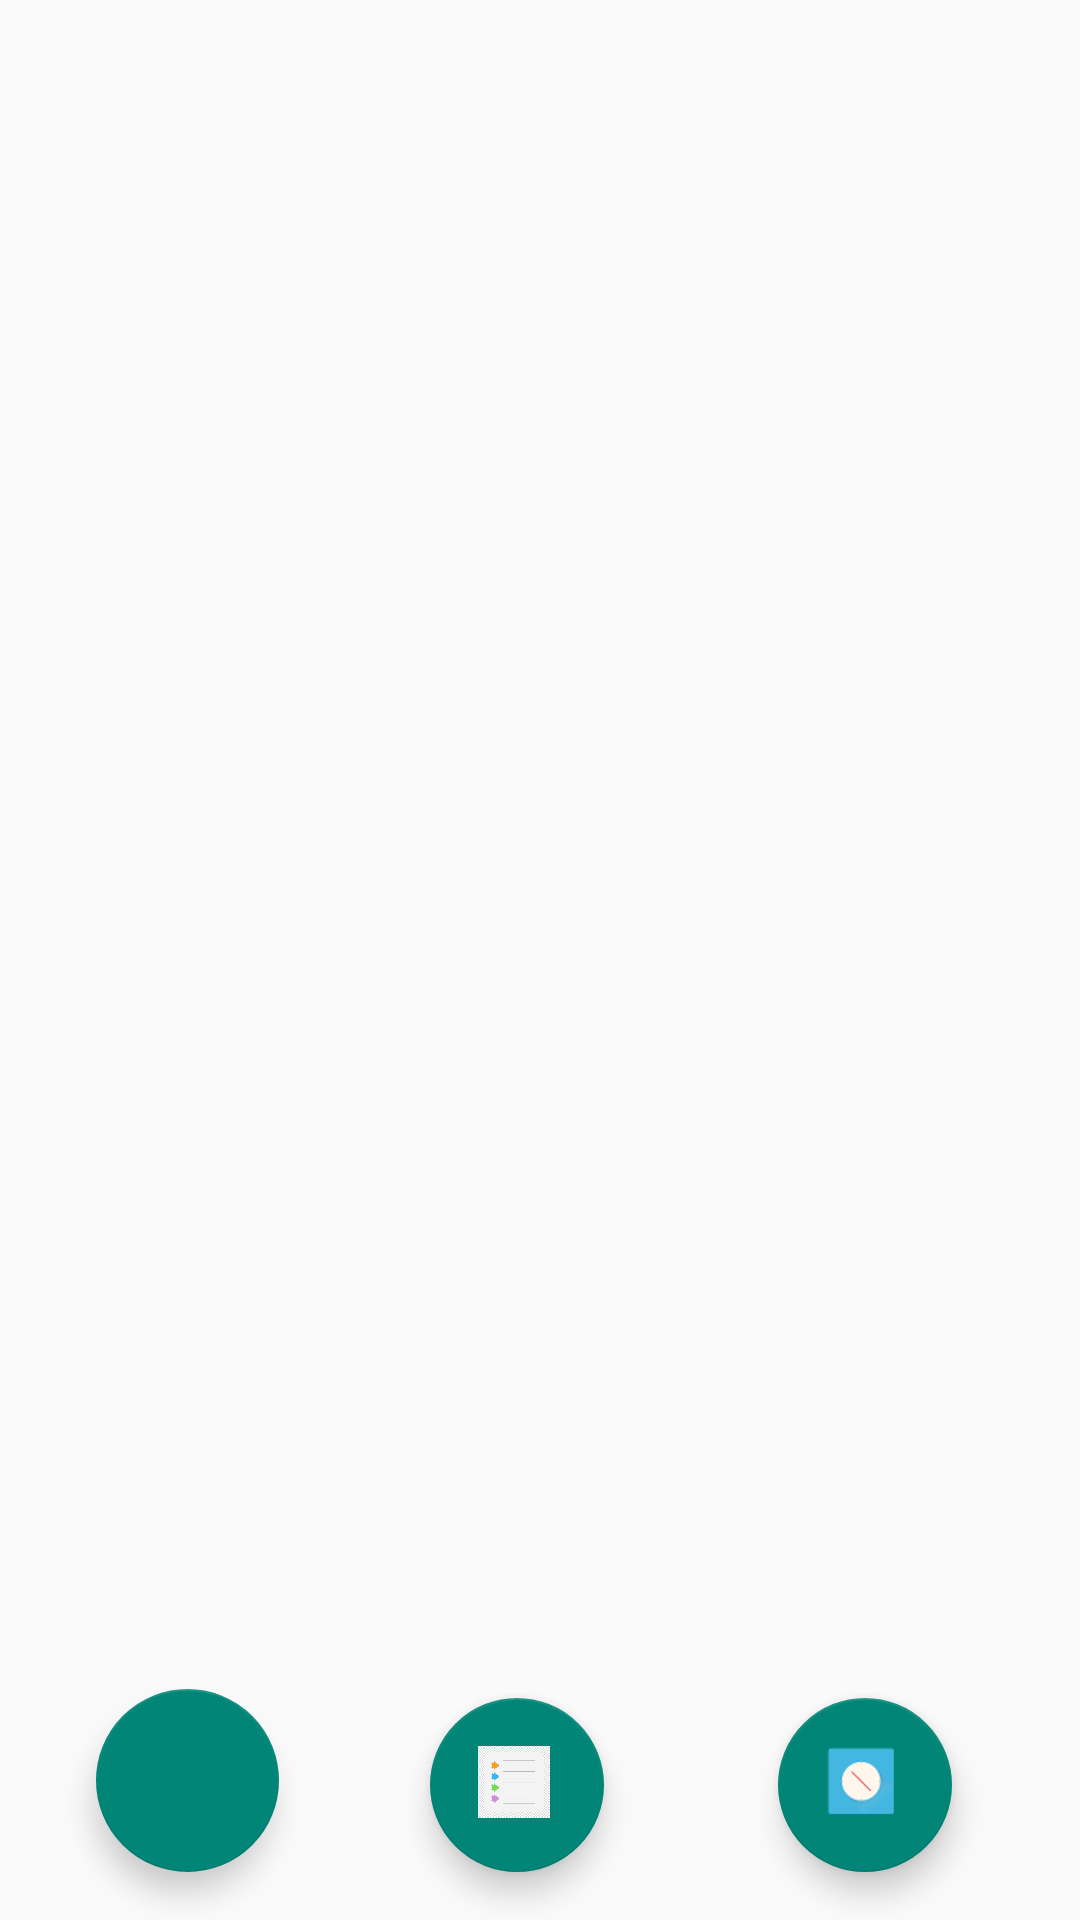

Screen size 1080*1920. Icon name, then its box in pixels as (left=x1, top=y1, right=x2, bottom=y2):
remindericon: (left=430, top=1698, right=604, bottom=1872)
